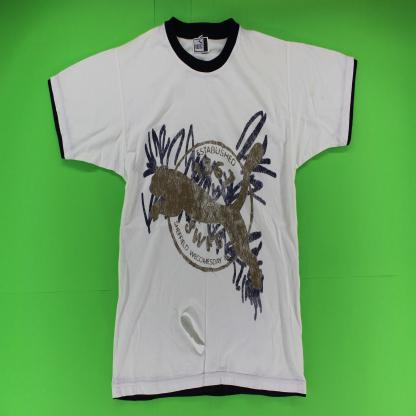hole: (165, 299, 207, 347)
